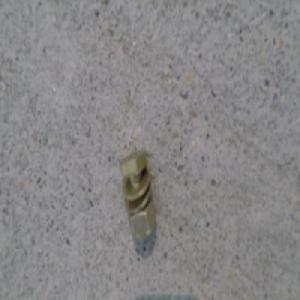BoltNutSet: (121, 150, 157, 238)
